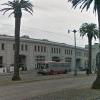Palm tree: (78, 16, 100, 75)
